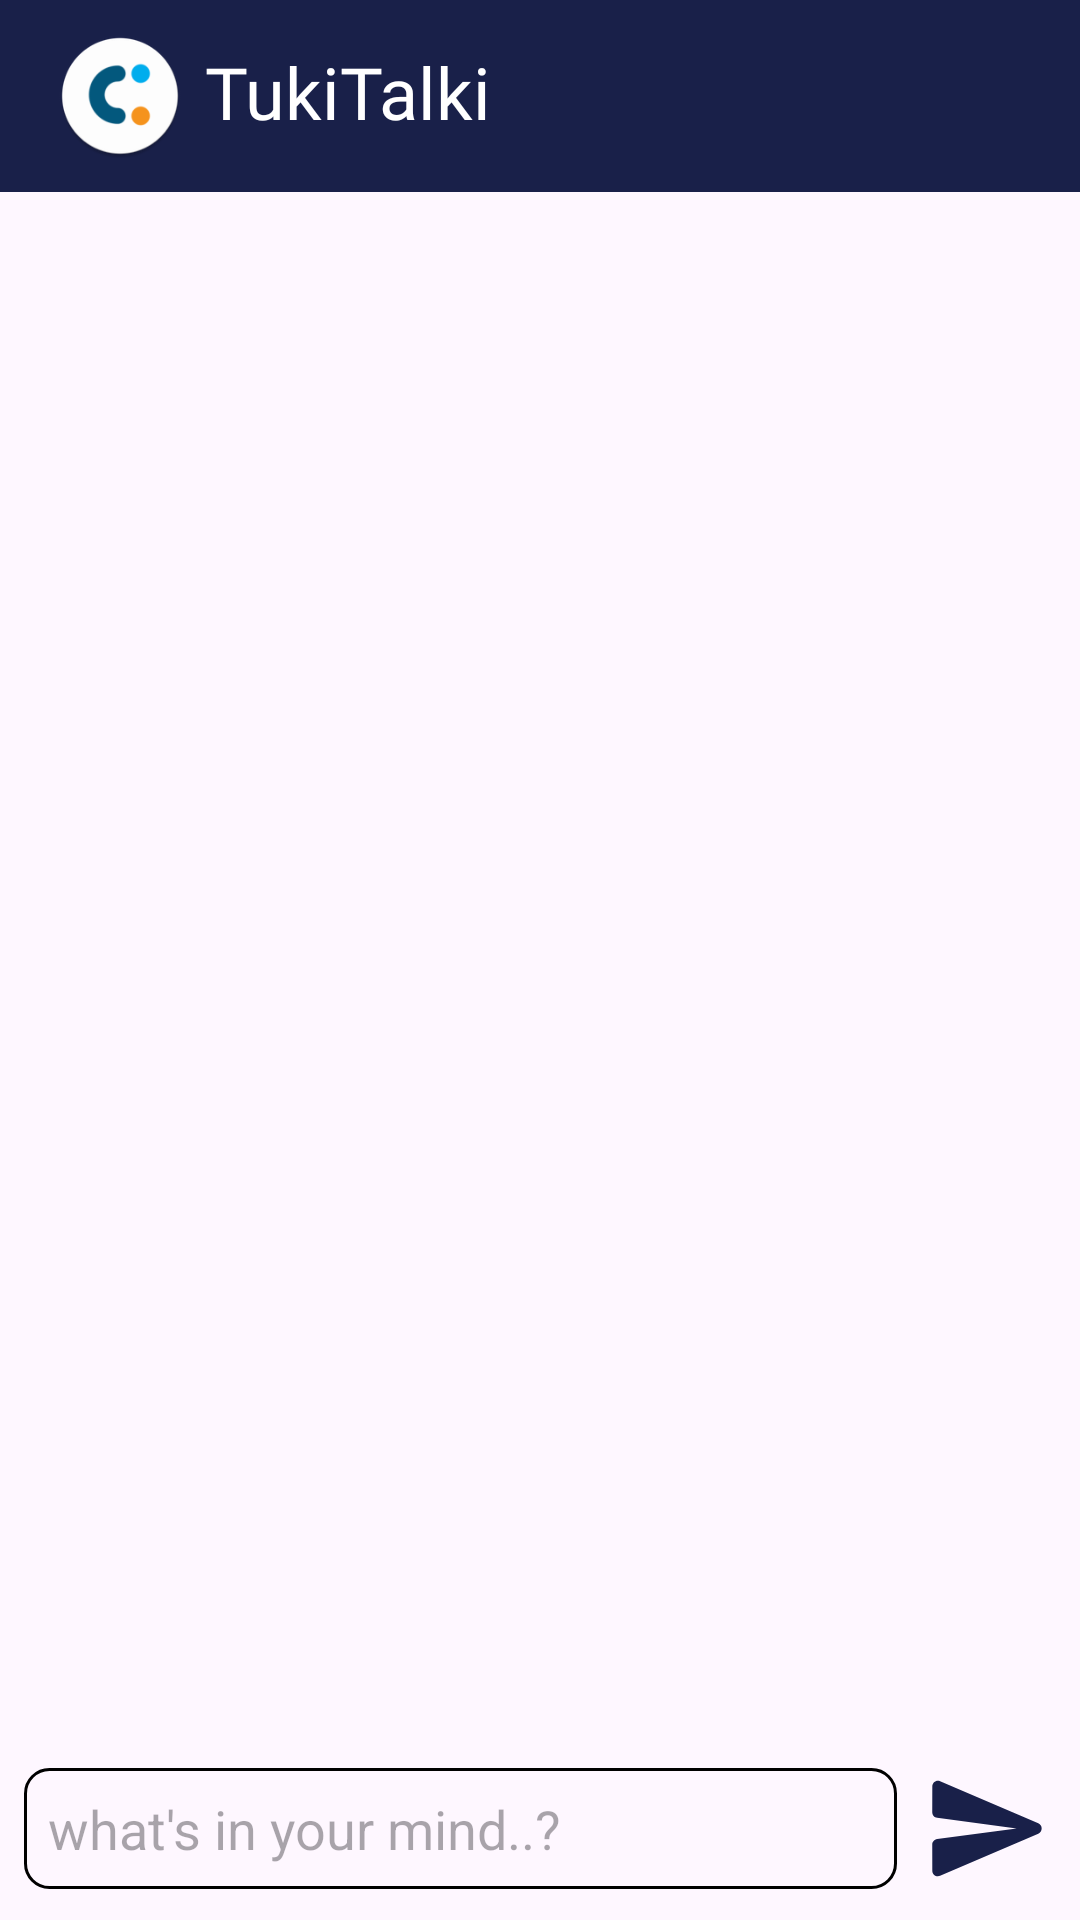

Icon bounding boxes for this 1080×1920 phone screenshot, format (x1, y1, x2, y2):
send: (932, 1780, 1042, 1877)
